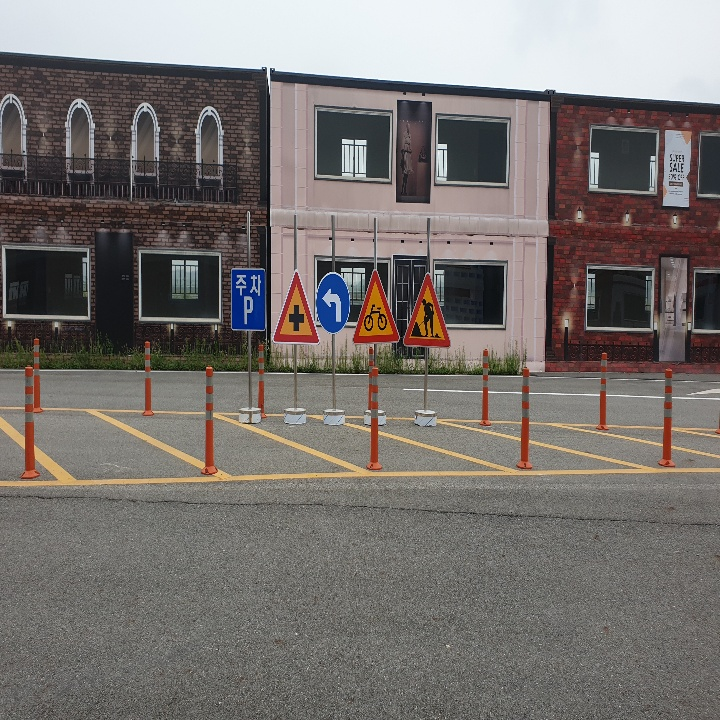bicycle: (354, 270, 402, 342)
const: (409, 295, 443, 342)
inter: (285, 300, 307, 336)
left: (317, 284, 348, 326)
parking: (237, 294, 257, 328)
